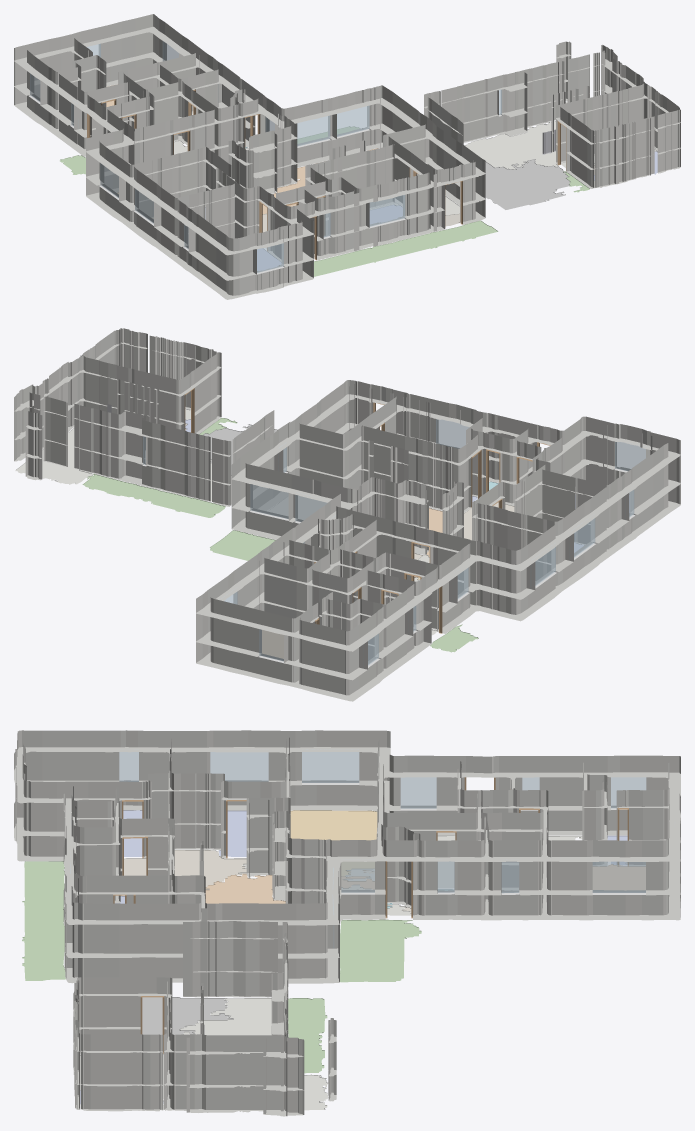
3 views of the same model, one above another, from view 1: azimuth 30°, elevation 25°; view 2: azimuth 150°, elevation 25°; view 3: azimuth 270°, elevation 25° (orthographic). The views are drawn at different scales.
Parts seen in each view (by area): view 1: walls, floor_29_Garage, floor_0_Outdoor, floor_38_Undefined, window_36, window_29, window_30, window_37, floor_15_Bed_Room; view 2: walls, floor_2_Outdoor, floor_38_Undefined, floor_3_Outdoor, window_30, window_36, window_37, window_20, floor_4_Outdoor, floor_36_Undefined; view 3: walls, floor_0_Outdoor, floor_3_Outdoor, floor_38_Undefined, floor_6_Kitchen, floor_29_Garage, floor_22_Entry, floor_2_Outdoor, floor_8_Living_Room, window_28, window_22, window_32 (+7 smaller).
Part boxes in pixels (bbox=[...]): walls: bbox=[14, 14, 680, 299]; floor_29_Garage: bbox=[485, 159, 570, 209]; floor_0_Outdoor: bbox=[314, 220, 497, 276]; floor_38_Undefined: bbox=[464, 101, 567, 169]; window_36: bbox=[369, 195, 405, 226]; window_29: bbox=[297, 115, 330, 146]; window_30: bbox=[337, 106, 369, 136]; window_37: bbox=[257, 243, 283, 272]; floor_15_Bed_Room: bbox=[370, 205, 402, 224]; walls: bbox=[14, 328, 680, 701]; floor_2_Outdoor: bbox=[82, 474, 225, 517]; floor_38_Undefined: bbox=[15, 428, 231, 503]; floor_3_Outdoor: bbox=[210, 530, 275, 560]; window_30: bbox=[250, 484, 288, 518]; window_36: bbox=[436, 419, 469, 448]; window_37: bbox=[615, 440, 645, 471]; window_20: bbox=[259, 629, 283, 661]; floor_4_Outdoor: bbox=[430, 624, 478, 652]; floor_36_Undefined: bbox=[267, 495, 326, 519]; walls: bbox=[14, 730, 680, 1116]; floor_0_Outdoor: bbox=[22, 861, 65, 980]; floor_3_Outdoor: bbox=[340, 919, 421, 982]; floor_38_Undefined: bbox=[180, 998, 328, 1110]; floor_6_Kitchen: bbox=[290, 810, 377, 875]; floor_29_Garage: bbox=[142, 997, 233, 1034]; floor_22_Entry: bbox=[124, 850, 246, 889]; floor_2_Outdoor: bbox=[288, 998, 327, 1073]; floor_8_Living_Room: bbox=[205, 873, 285, 903]; window_28: bbox=[302, 749, 359, 782]; window_22: bbox=[592, 861, 645, 892]; window_32: bbox=[210, 752, 268, 781].
Bounding box in the file's own units: 24.08 × 2.72 × 21.81.
